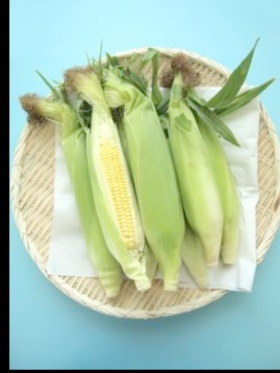corn: (93, 124, 137, 255)
corn_plant: (40, 100, 121, 291), (112, 71, 179, 270), (165, 85, 221, 258)
